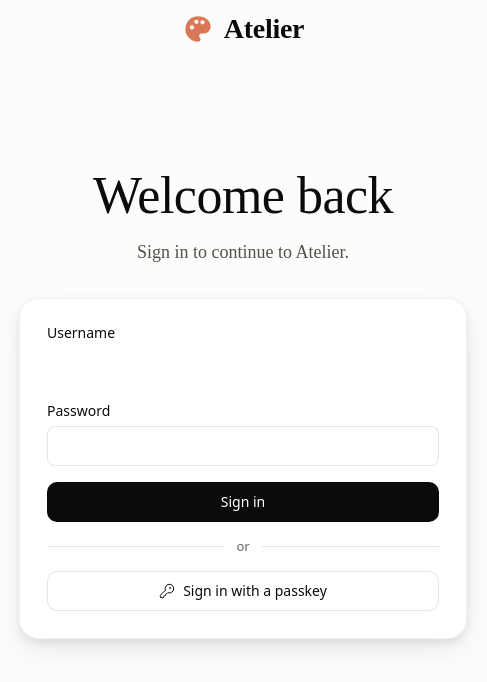
Test: Signing in with a passkey › says so when the prompt was cancelled, and shows the server’s reason for a passkey it doesn’t know
Click the 2nd button named "Sign in with a passkey". click: [243, 590]
box: [47, 570, 439, 610]
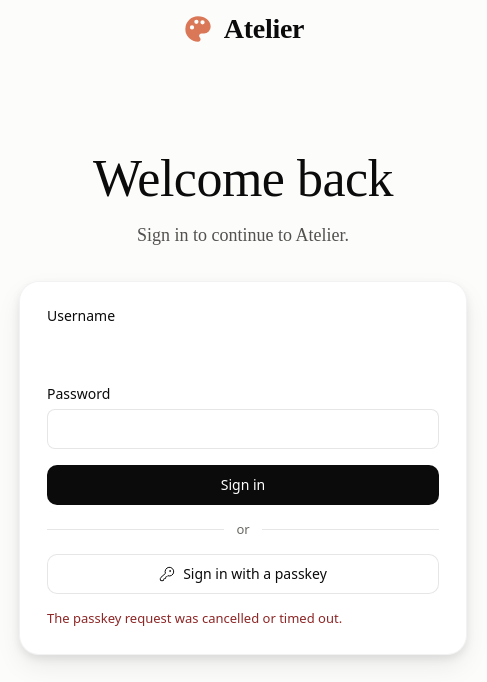
Result: the message reads "The passkey request was cancelled or timed out." at [47, 609, 342, 627]
Click the 2nd button named "Sign in with a passkey". click: [243, 574]
box: [47, 554, 439, 594]
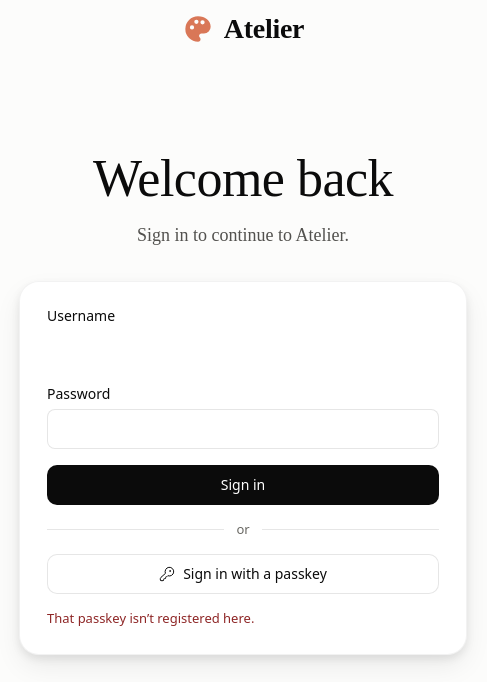
Result: the message reads "That passkey isn’t registered here." at [47, 609, 254, 627]
